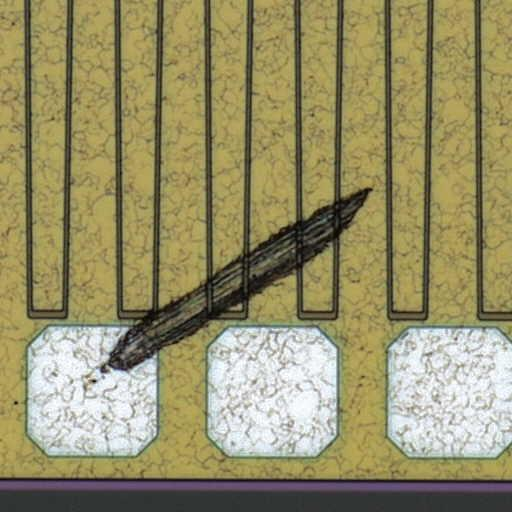SCRATCH: (83, 180, 379, 389)
